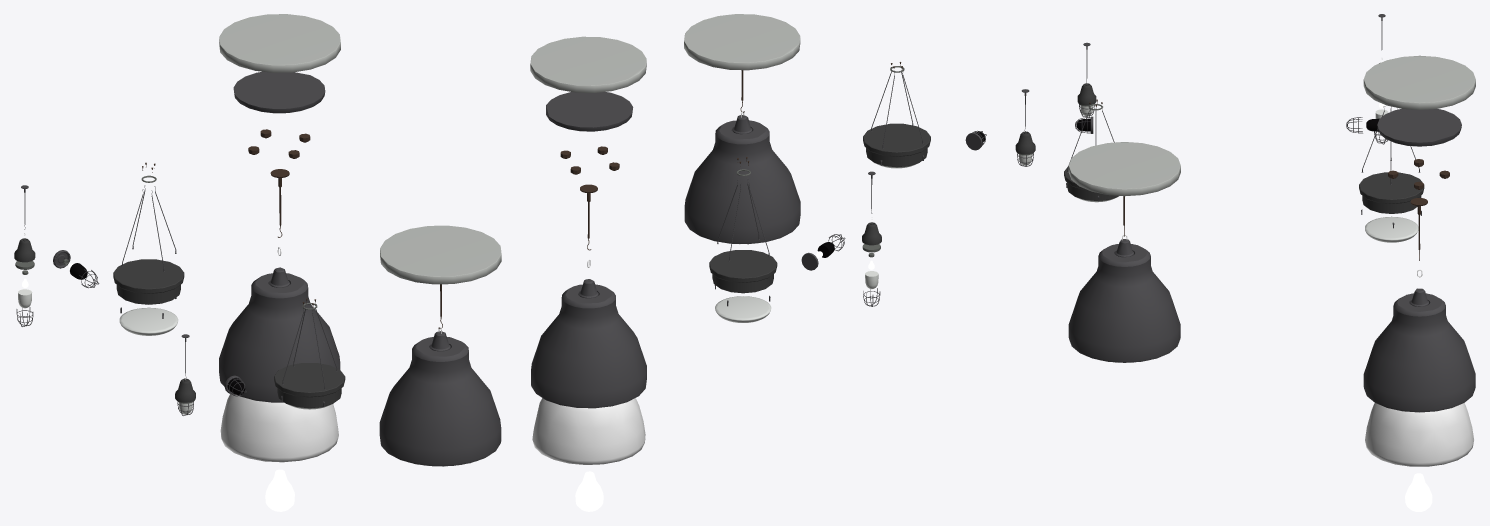
File: bunker_lamps.glb
The picture shows the model from 3 angles, left to right: view 1: azimuth 30°, elevation 25°; view 2: azimuth 150°, elevation 25°; view 3: azimuth 270°, elevation 25°; orthographic projection. The views are drawn at different scales.
Parts seen in each view (by area): view 1: CarcacaLampada (×2), BaseSustentacao (×2), CarcacaReflexiva, BaseSuspencao, polySurface15, Assets:polySurface15, polySurface16, polySurface41; view 2: CarcacaLampada (×2), BaseSustentacao (×2), CarcacaReflexiva, BaseSuspencao, polySurface15, Assets:polySurface15, polySurface16, polySurface41; view 3: CarcacaLampada (×2), BaseSustentacao (×2), CarcacaReflexiva, BaseSuspencao, polySurface15, polySurface16, polySurface41, Assets:polySurface15.
Boxes of the visible parts, x1,y1,x2,y2 form: CarcacaLampada (×2): (219, 267, 501, 466); BaseSustentacao (×2): (219, 14, 501, 284); CarcacaReflexiva: (220, 394, 338, 462); BaseSuspencao: (233, 71, 325, 113); polySurface15: (113, 259, 184, 304); Assets:polySurface15: (274, 363, 345, 408); polySurface16: (119, 307, 178, 335); polySurface41: (265, 469, 294, 511); CarcacaLampada (×2): (531, 115, 800, 408); BaseSustentacao (×2): (530, 14, 800, 92); CarcacaReflexiva: (532, 398, 645, 464); BaseSuspencao: (546, 92, 633, 131); polySurface15: (709, 250, 777, 293); Assets:polySurface15: (863, 123, 930, 167); polySurface16: (715, 296, 771, 322); polySurface41: (575, 471, 603, 511); CarcacaLampada (×2): (1068, 239, 1475, 412); BaseSustentacao (×2): (1068, 55, 1475, 196); CarcacaReflexiva: (1365, 403, 1473, 466); BaseSuspencao: (1377, 109, 1461, 146); polySurface15: (1359, 172, 1424, 213); polySurface16: (1365, 216, 1418, 242); polySurface41: (1405, 473, 1432, 511); Assets:polySurface15: (1064, 167, 1118, 200).
Size of the model in its own units: 42.48 by 56.44 by 48.88.
Materials: 2 (2 with a texture image).
